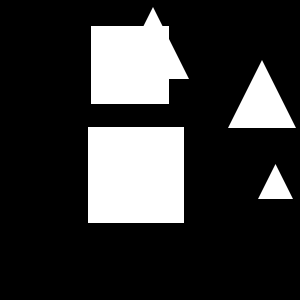circle: (88, 127, 184, 223), (91, 26, 169, 104)
triangle: (117, 7, 189, 79), (228, 60, 296, 128), (258, 164, 293, 199)
